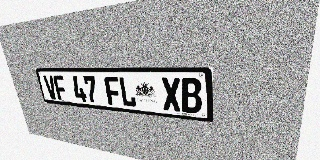4: (71, 76, 87, 102)
7: (82, 76, 99, 104)
B: (180, 78, 202, 114)
F: (104, 76, 122, 106), (52, 75, 68, 101)
L: (118, 77, 137, 107)
V: (43, 75, 58, 100)
X: (161, 77, 181, 112)
